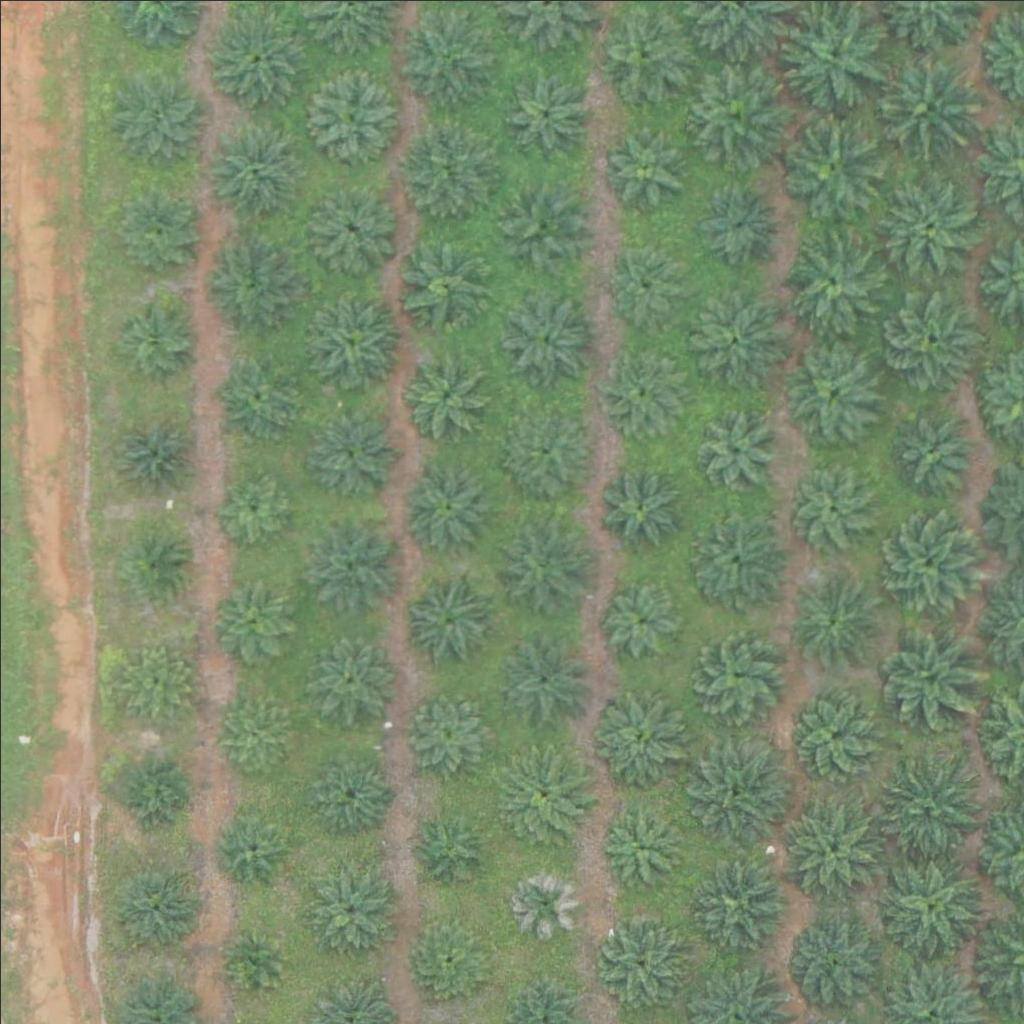Kelapa_Sawit: (874, 847, 987, 961), (866, 748, 979, 862), (872, 617, 985, 730), (870, 507, 983, 620), (680, 732, 792, 846), (872, 171, 984, 284), (865, 44, 977, 157), (686, 854, 786, 955), (488, 745, 588, 846), (305, 511, 405, 612), (400, 680, 500, 781), (400, 570, 500, 671), (494, 630, 594, 731), (681, 289, 781, 390), (783, 570, 883, 671), (782, 342, 882, 443), (782, 225, 882, 326), (878, 288, 978, 389), (491, 177, 591, 278), (396, 124, 496, 225), (391, 3, 491, 104), (300, 64, 400, 165), (198, 119, 298, 220), (205, 8, 305, 109), (782, 911, 882, 1011), (780, 794, 880, 894), (202, 231, 302, 331), (302, 292, 402, 392), (396, 235, 496, 335), (491, 515, 591, 615), (496, 288, 596, 388), (586, 687, 686, 787), (687, 625, 787, 725), (683, 509, 783, 609), (783, 684, 883, 784), (781, 122, 881, 222), (683, 62, 783, 162), (595, 4, 695, 104), (404, 912, 492, 1001), (302, 745, 390, 834), (306, 180, 394, 269), (403, 806, 491, 894), (112, 288, 200, 376), (112, 860, 200, 948), (209, 351, 297, 439), (307, 632, 395, 720), (308, 407, 396, 495), (595, 570, 683, 658), (886, 406, 974, 494), (501, 67, 589, 155), (212, 579, 299, 667), (109, 407, 196, 495), (595, 913, 682, 1001), (306, 860, 393, 948), (404, 459, 491, 547), (401, 348, 488, 436), (501, 399, 588, 487), (689, 407, 776, 495), (787, 463, 874, 551), (113, 187, 200, 275), (113, 72, 200, 160), (601, 808, 676, 884), (599, 465, 674, 541), (601, 354, 676, 430), (698, 184, 773, 260), (604, 131, 679, 207), (211, 808, 286, 883), (213, 466, 288, 541), (121, 645, 196, 720), (114, 753, 189, 828), (505, 862, 580, 937), (219, 697, 294, 772), (609, 240, 684, 315), (128, 534, 191, 597), (221, 925, 284, 988)
